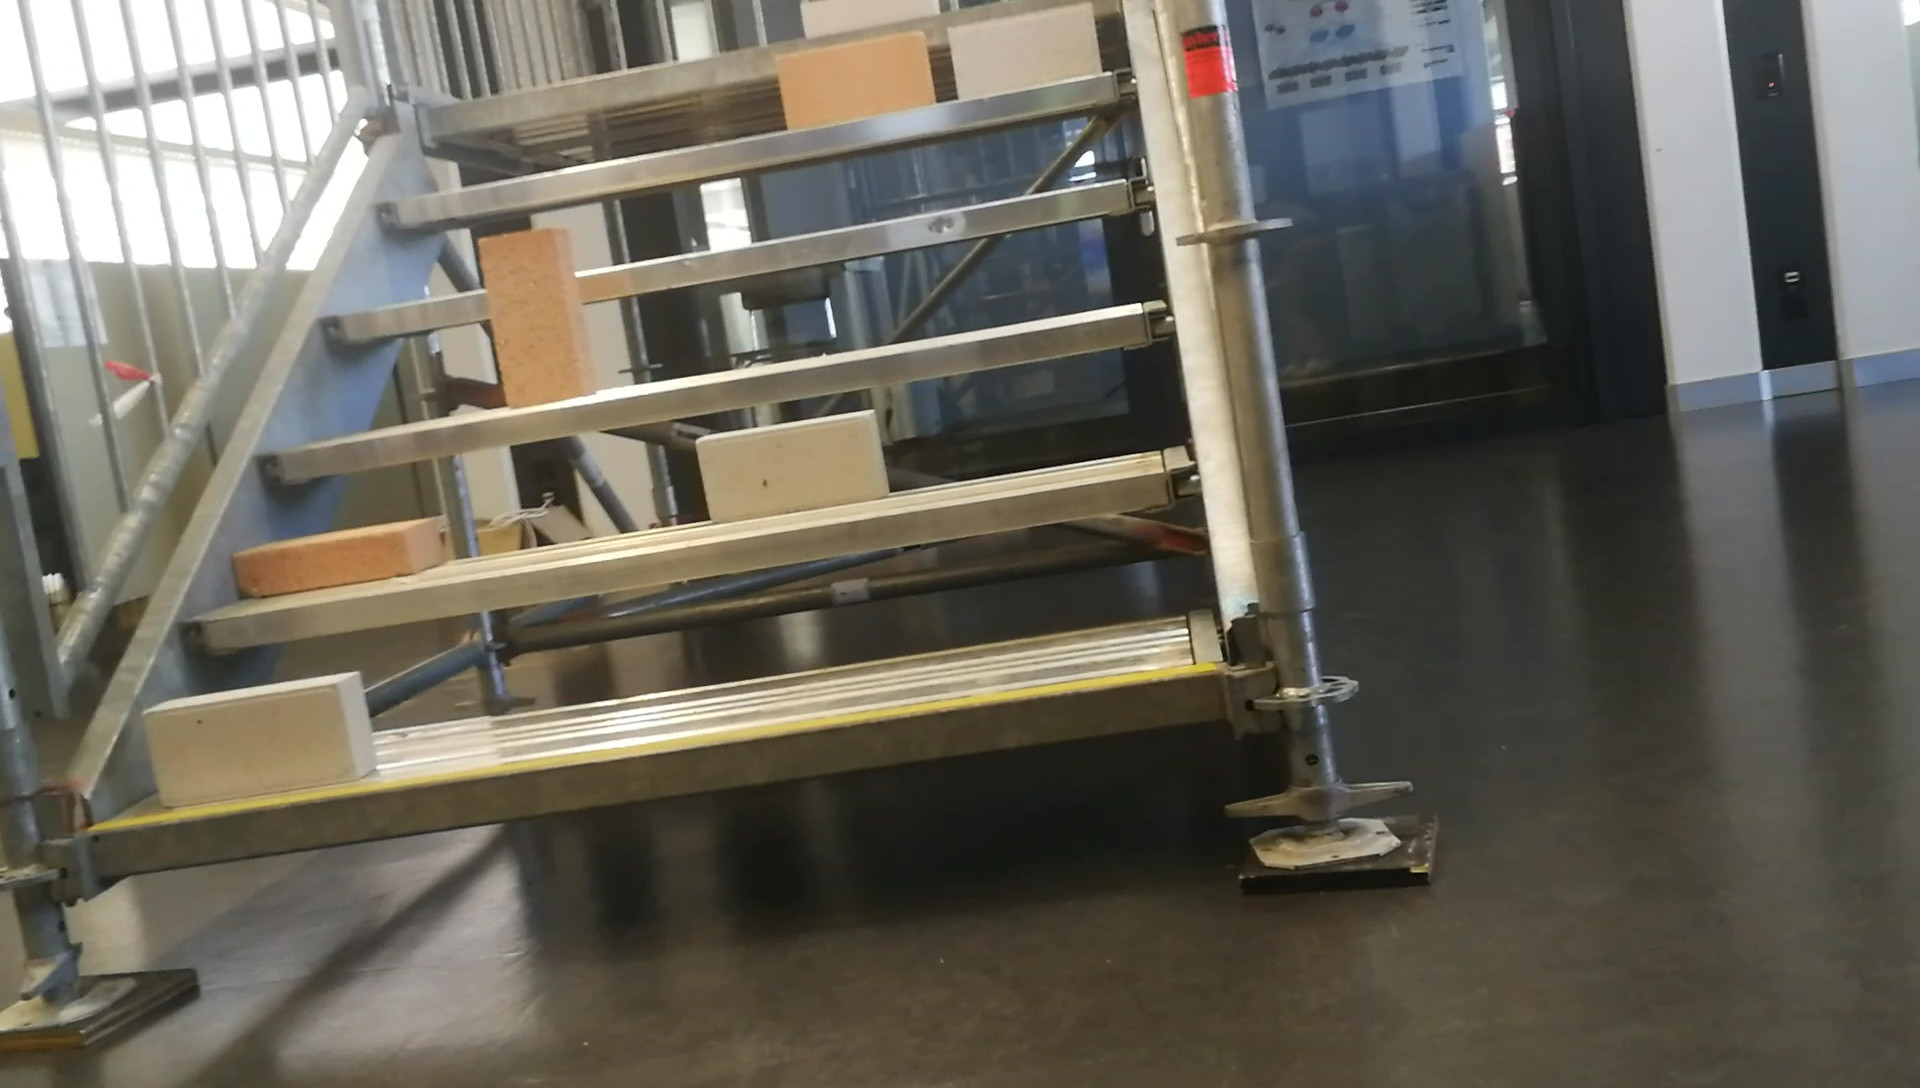brick: (148, 670, 375, 803), (477, 226, 597, 408), (698, 408, 885, 518), (235, 514, 444, 600), (779, 30, 934, 129), (952, 3, 1097, 95), (800, 3, 938, 36)
edge: (92, 667, 1222, 874), (181, 458, 1203, 644), (265, 305, 1172, 475), (328, 178, 1159, 343), (378, 69, 1138, 226)
stairs: (0, 0, 1428, 1047)
steps: (84, 3, 1237, 895)
